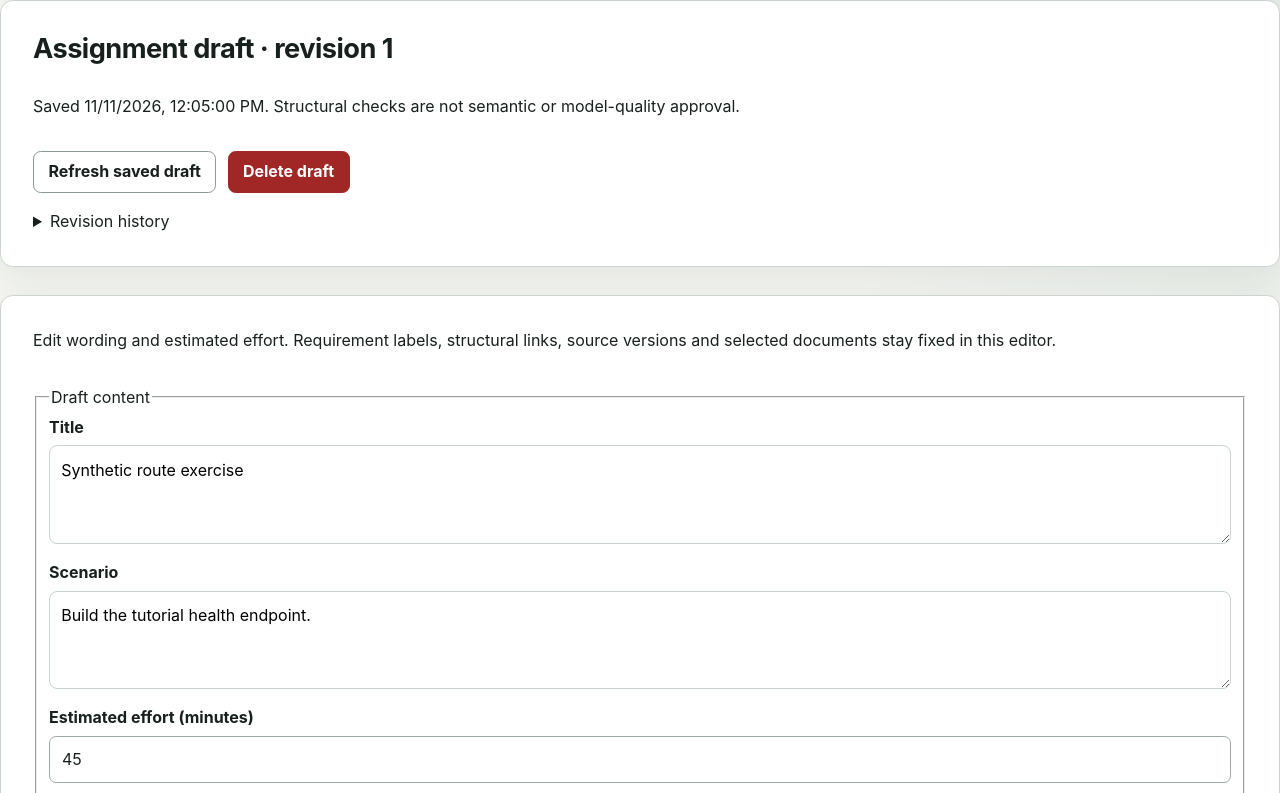
Test: draft review and conflict-safe editing › preserves conflicting edits until explicit discard/reload
Replace the text in the text box labelled "Title" with "Unsaved local change" at x=640, y=495, box [49,446,1231,544]
(page scrolled)
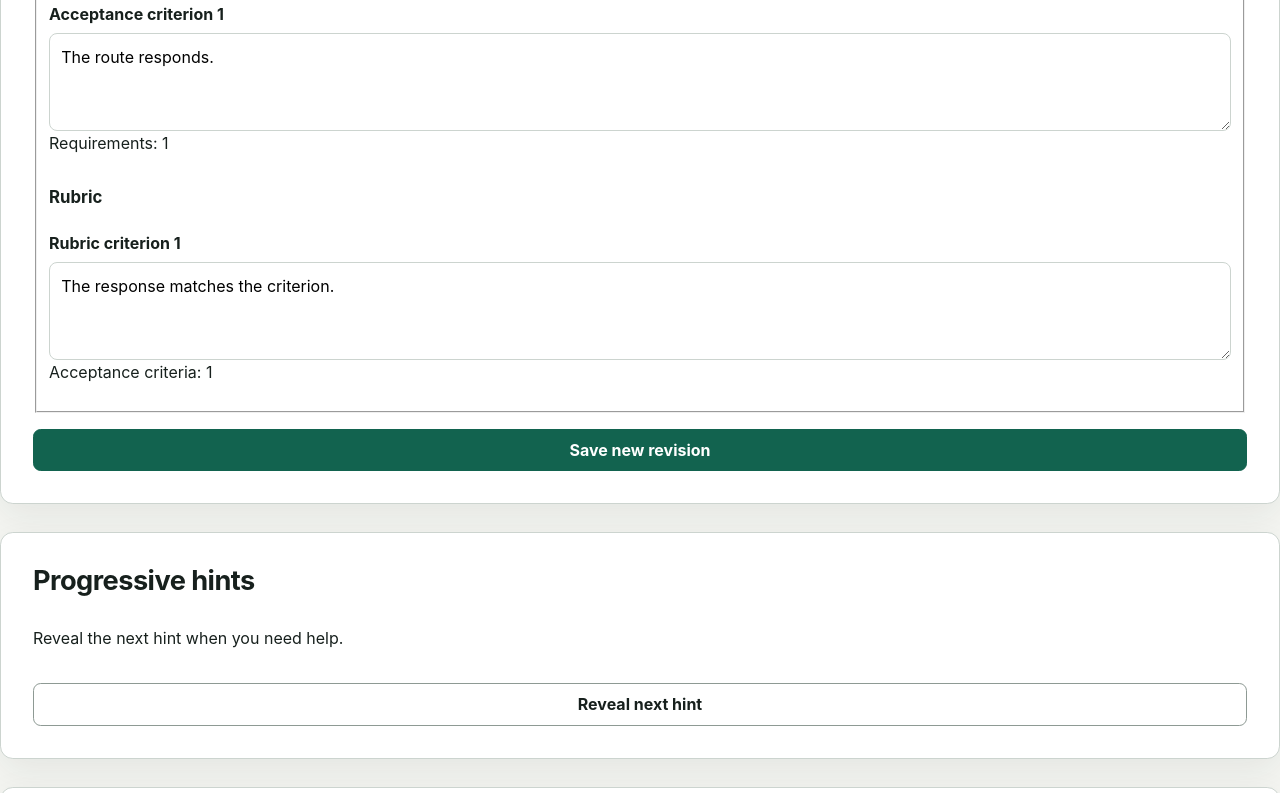
Click the button "Save new revision" at x=640, y=450, box [33,429,1247,472]
(page scrolled)
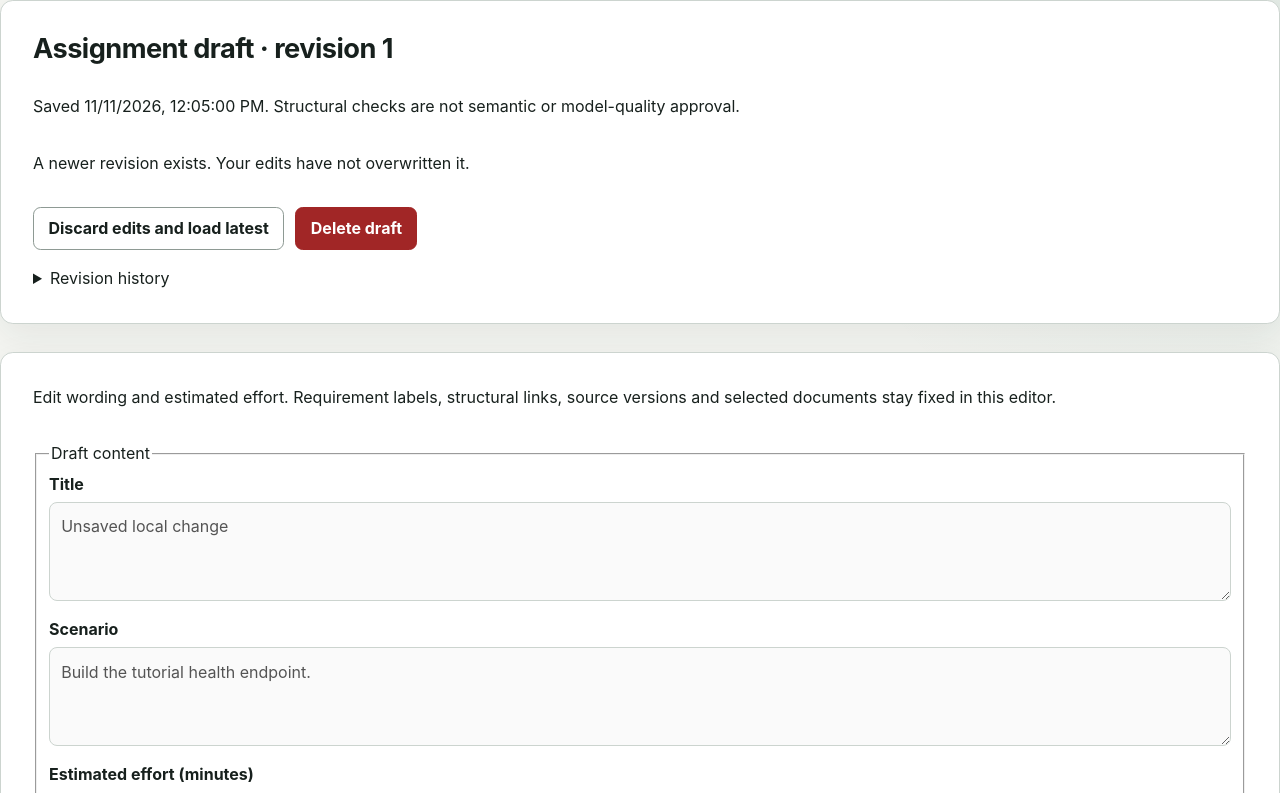
Expected: the text "A newer revision exists. Your edits have not overwritten it." is shown, [33,153,470,173]
Click the button "Discard edits and load latest" at x=159, y=229, box [33,208,284,250]
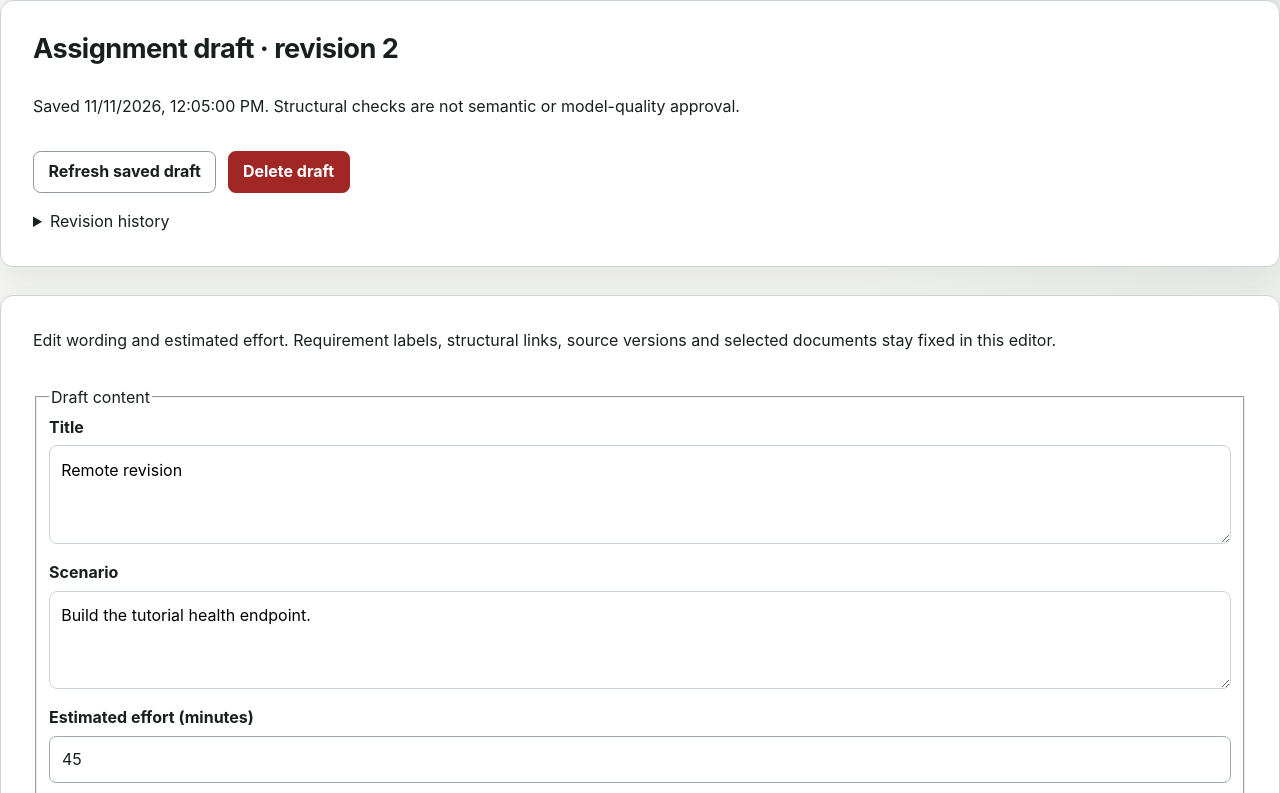
Expected: the text box labelled "Title" holds "Remote revision", [49,446,1231,544]
